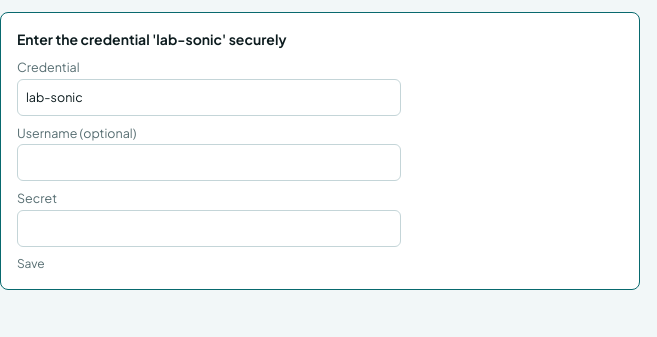
Scenario: secret form card › posts the secret to the store only; the chat message carries no secret
Type "Zq9-fake-Pass-1234" into the password field labelled "Secret" at (209, 228), box [17,210,401,247]
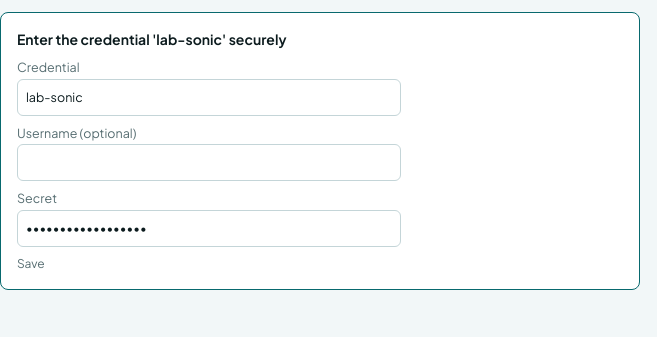
Click the button "Save" at (31, 264), box [17,254,45,272]
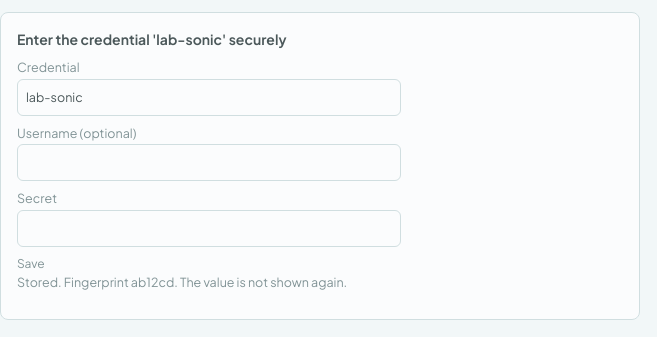
Now the password field labelled "Secret" is empty, box [17,210,401,247]
Now the text "ab12cd" is shown, box [62,274,178,290]
